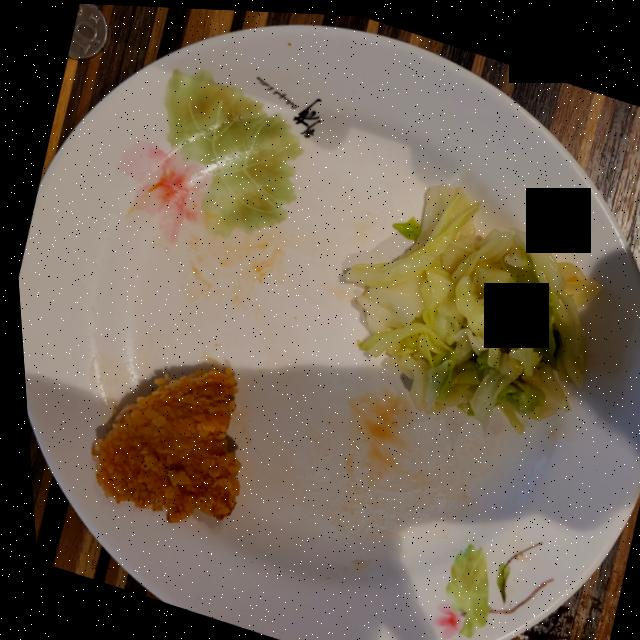cabbage: (341, 178, 596, 423)
coin: (67, 3, 107, 58)
fried chicken cutlet: (85, 365, 234, 520)
